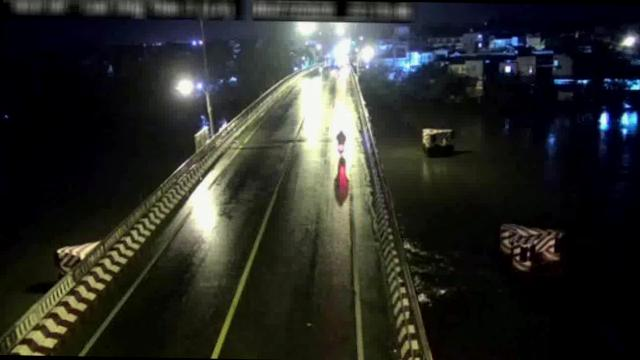Bike: (334, 130, 347, 156)
